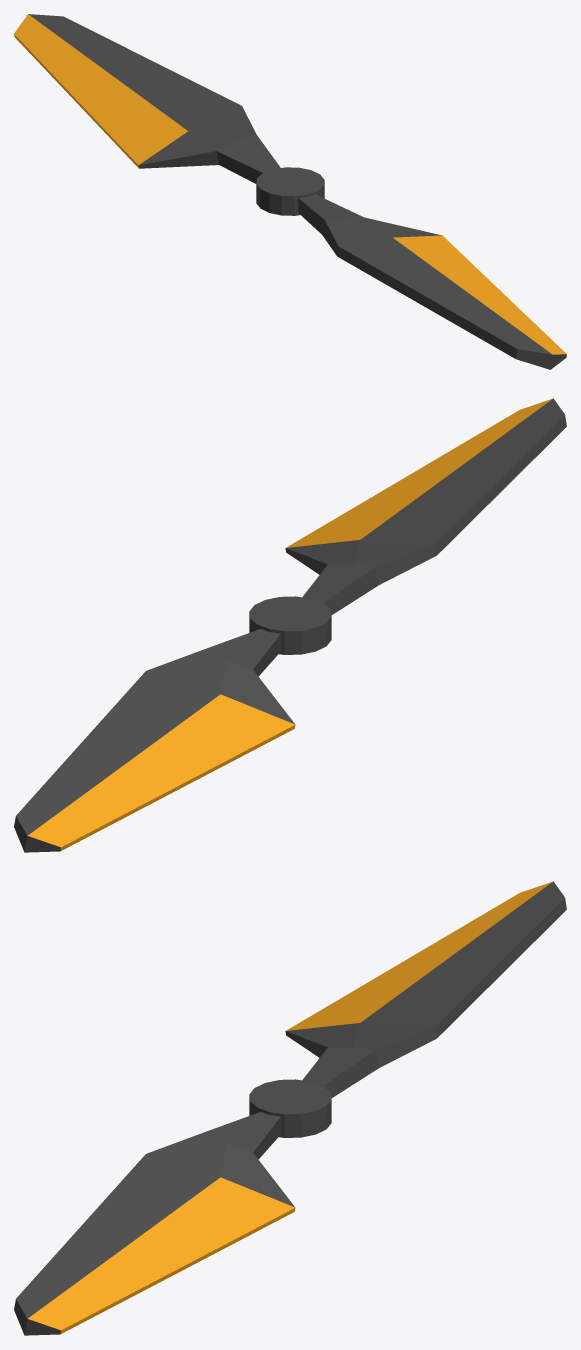
The model's file is rotor_fr.glb.
3 views of the same model, one above another, from view 1: azimuth 30°, elevation 25°; view 2: azimuth 150°, elevation 25°; view 3: azimuth 330°, elevation 25° (orthographic). The views are drawn at different scales.
Visible parts, largest first — view 1: Rotor_FR; view 2: Rotor_FR; view 3: Rotor_FR.
Part boxes in pixels (<box>): Rotor_FR: <box>14,14,566,369</box>; Rotor_FR: <box>14,398,566,852</box>; Rotor_FR: <box>14,881,566,1335</box>.
Size of the model in its own units: 0.0489 by 0.00827 by 0.2602.
Materials: 1 (1 with a texture image).
